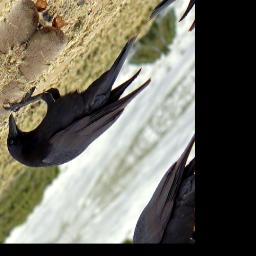Crow: (0, 0, 166, 201)
